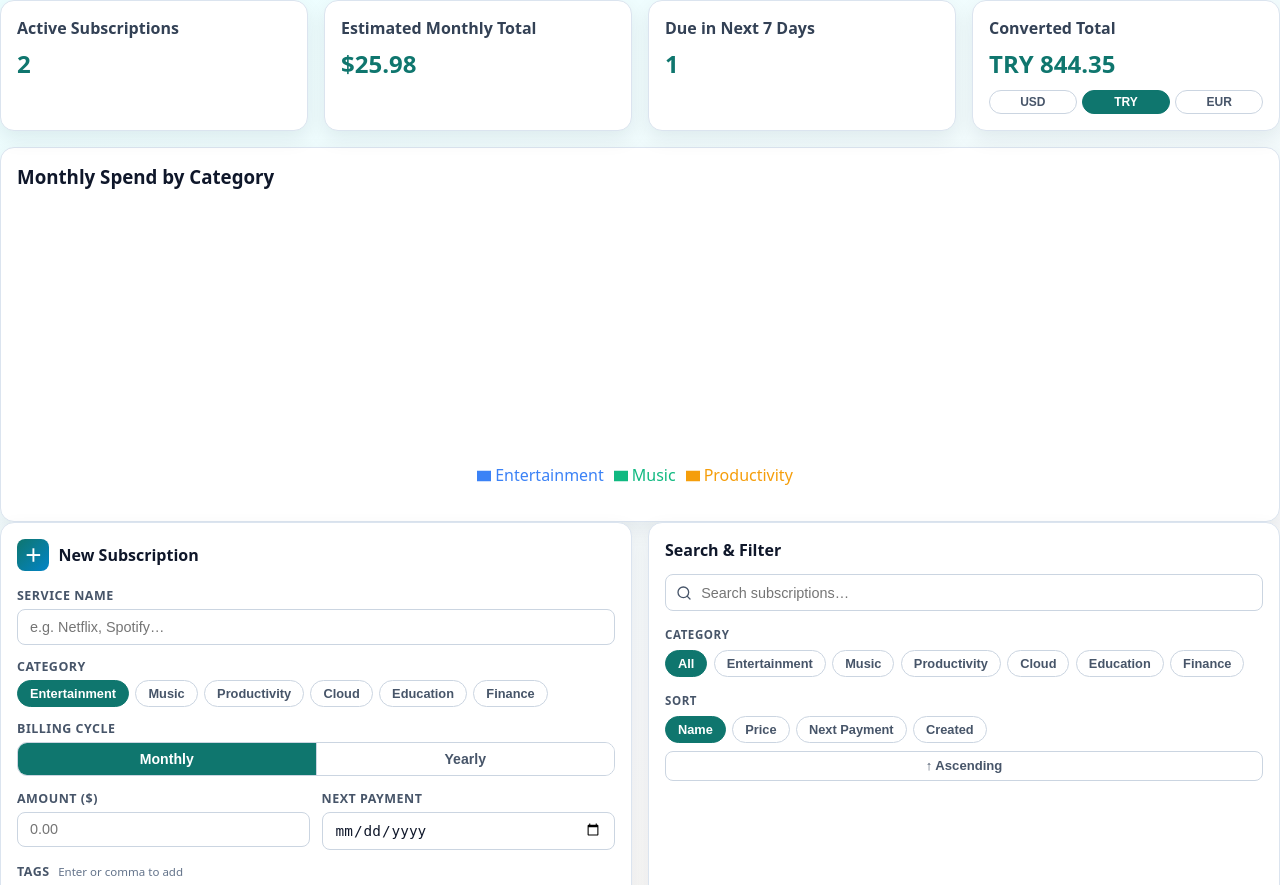
Test: SubscriptionList › CRUD and interactions › updates sort parameters
Click the button "Price" at (761, 729), box [732,716,790,743]
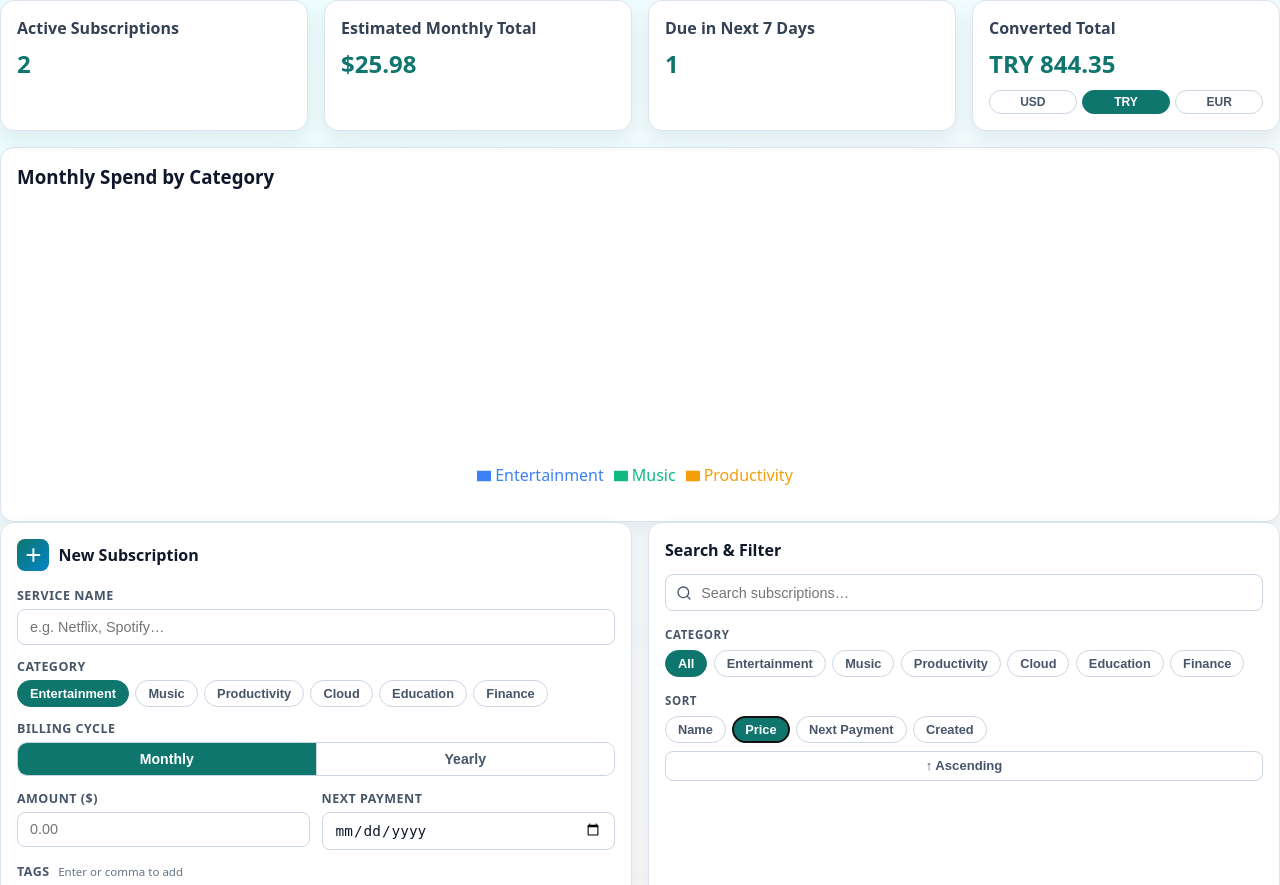
Click the button "↑ Ascending" at (964, 766), box [665,751,1263,781]
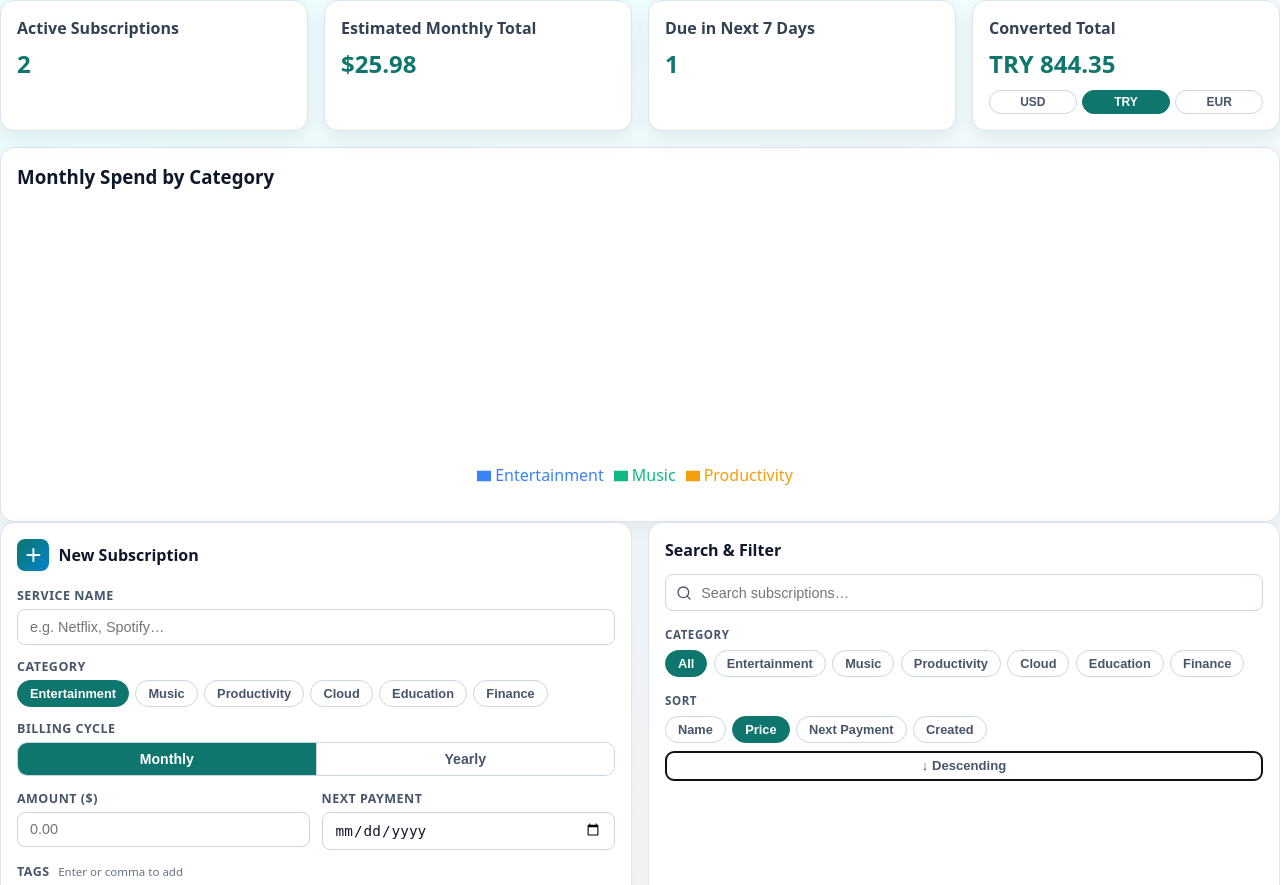
Now the button "↓ Descending" is shown, box [665,751,1263,781]
